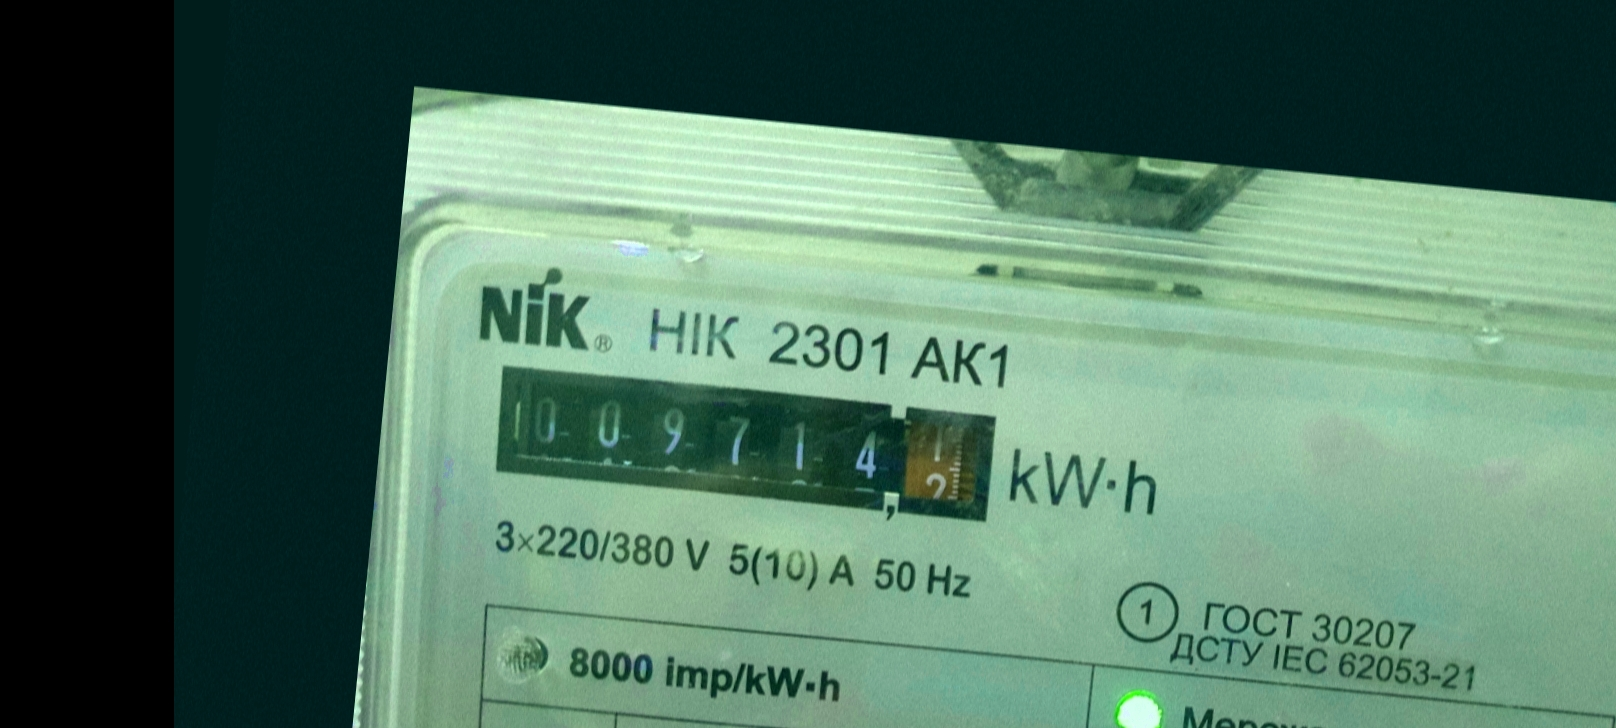0: (530, 392, 564, 448), (595, 395, 626, 450)
1: (788, 416, 815, 473), (930, 421, 949, 465)
2: (924, 469, 950, 501)
4: (852, 426, 885, 483)
7: (723, 413, 754, 469)
9: (656, 403, 691, 458)
screen: (477, 349, 1016, 541)
